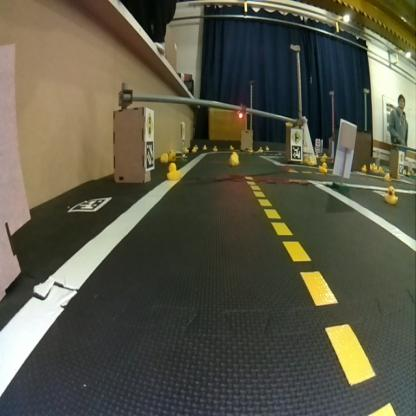Duckie: (166, 162, 180, 180), (384, 185, 397, 203), (228, 153, 239, 165), (318, 162, 327, 171), (190, 146, 197, 154), (212, 144, 218, 152), (203, 143, 208, 151), (258, 146, 263, 152)
Intersection sign: (291, 130, 301, 143)
QR code: (67, 196, 111, 210), (145, 141, 153, 168), (291, 144, 301, 158)
Signal sign: (145, 111, 153, 138)
Traffic light: (237, 102, 246, 119)
